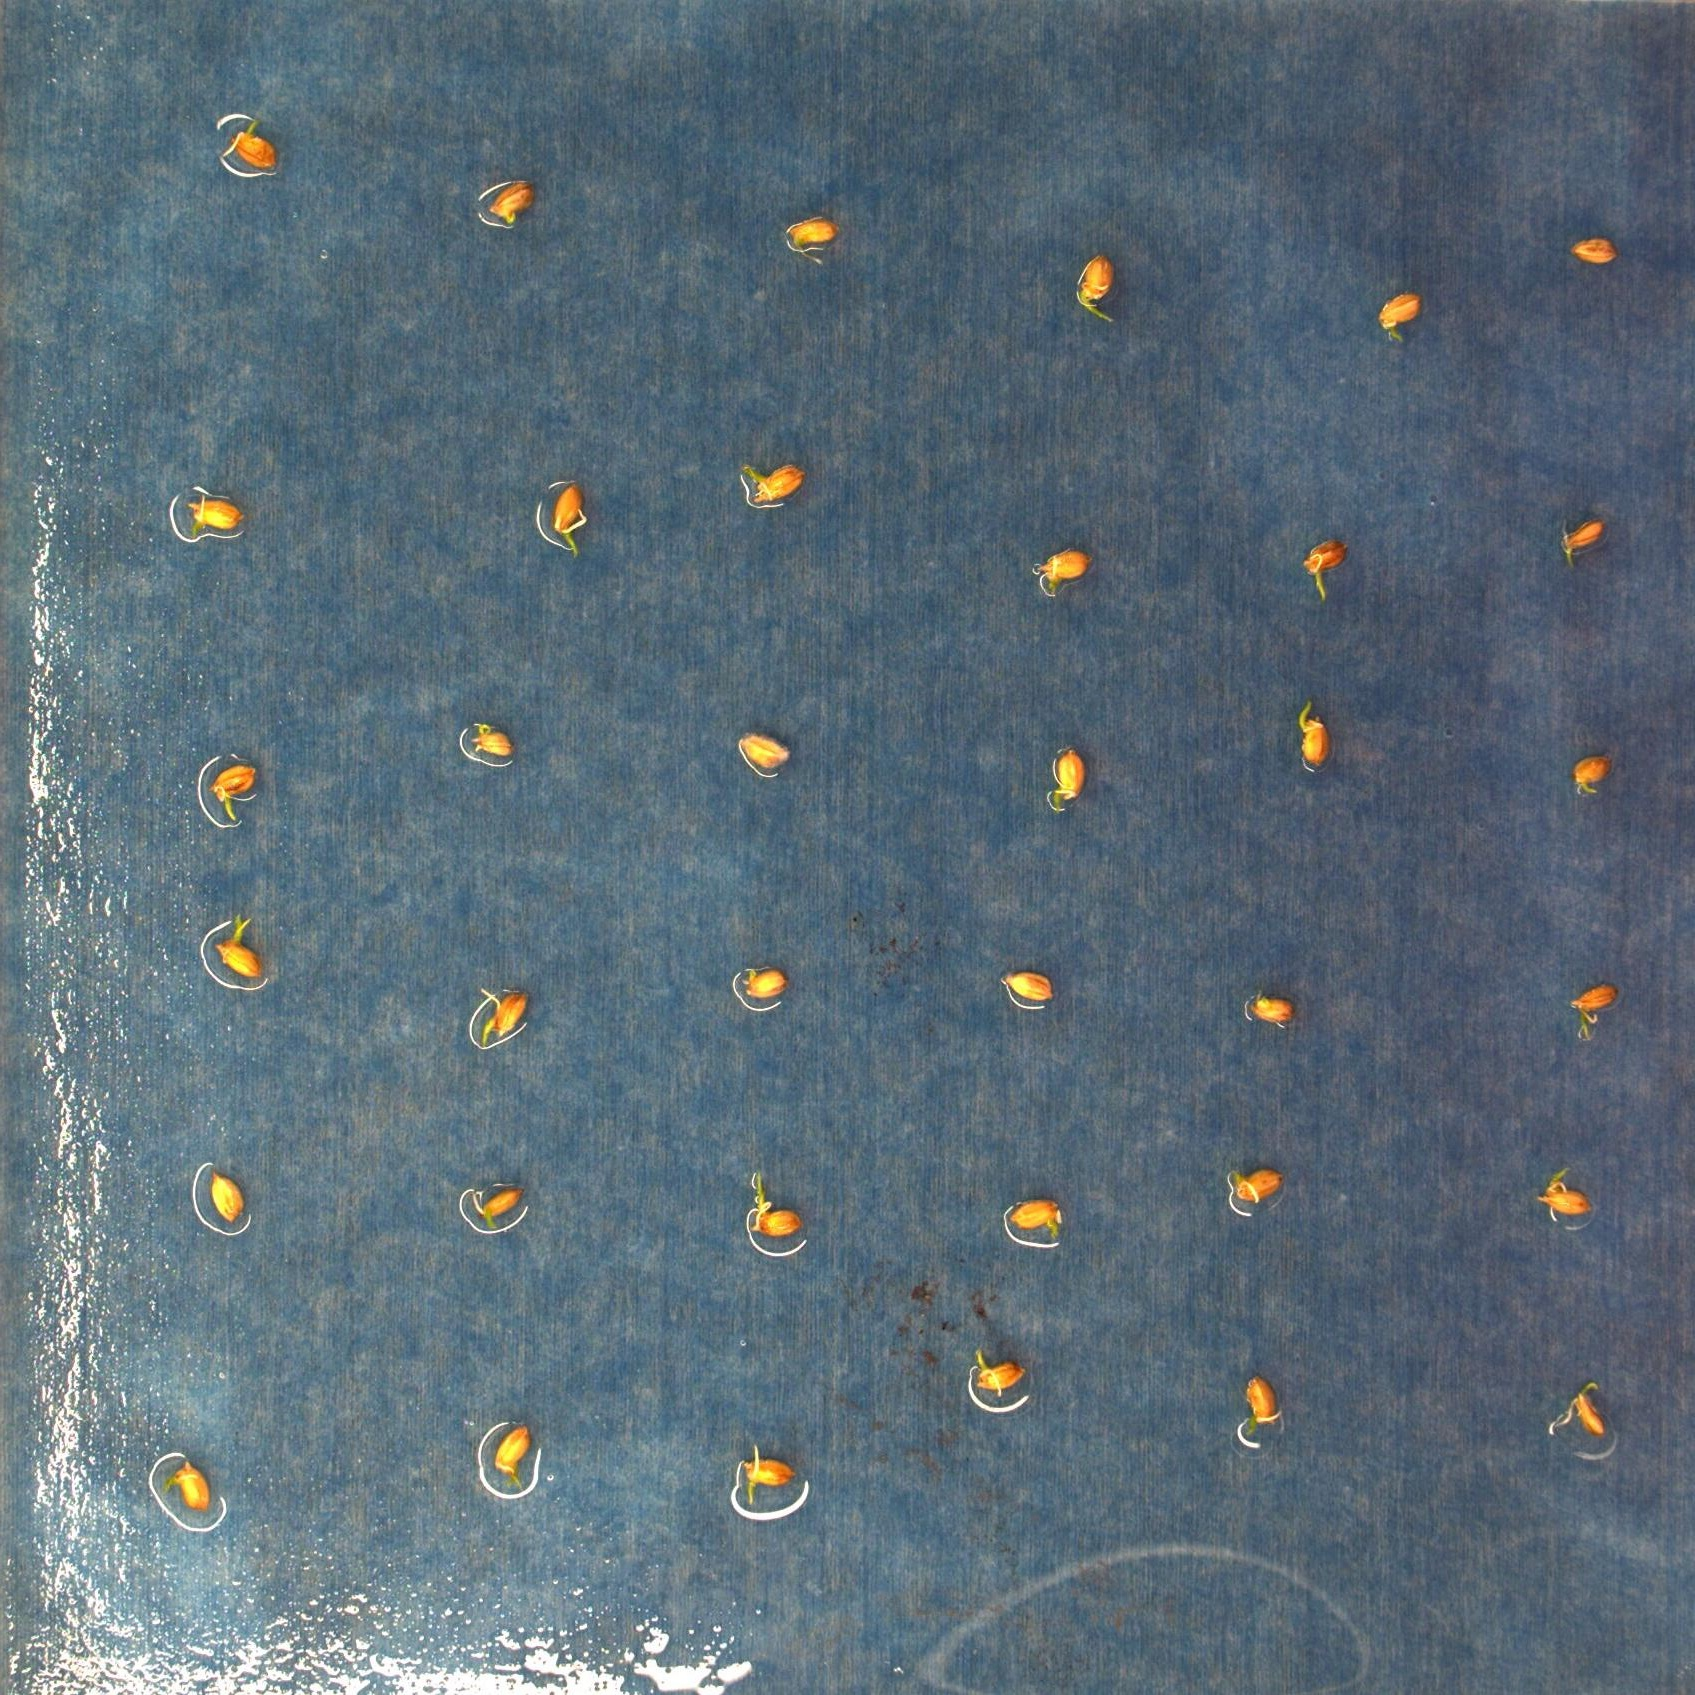not sprout: (217, 116, 282, 177), (1548, 1381, 1610, 1439), (1538, 1164, 1596, 1225), (742, 1442, 796, 1506), (477, 986, 529, 1051), (970, 1346, 1031, 1399), (1242, 1371, 1285, 1442), (1034, 546, 1088, 599), (1048, 745, 1088, 813), (490, 1422, 531, 1489), (165, 1456, 211, 1513), (1558, 515, 1607, 570), (1299, 698, 1333, 775), (487, 174, 539, 224), (464, 716, 517, 762), (733, 733, 795, 771), (997, 965, 1059, 1004), (1228, 1166, 1285, 1208), (1569, 981, 1617, 1031), (1378, 290, 1420, 345), (470, 1187, 525, 1229), (185, 497, 244, 534), (1010, 1197, 1065, 1237), (206, 1167, 244, 1225), (782, 216, 834, 255), (1248, 989, 1299, 1028), (740, 964, 793, 1001), (1572, 750, 1611, 793), (1572, 237, 1622, 267)
sprout: (747, 1161, 804, 1242), (214, 910, 264, 989), (1074, 251, 1118, 321), (1304, 537, 1350, 602), (213, 759, 259, 823), (742, 459, 804, 501), (553, 480, 584, 553)
